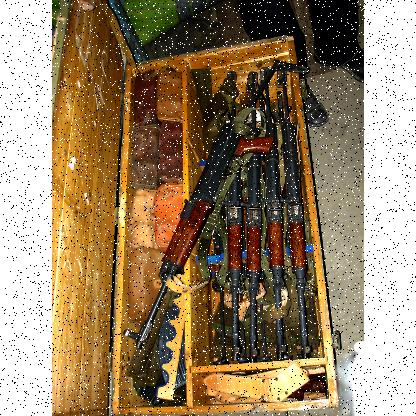gun: (125, 58, 307, 348)
